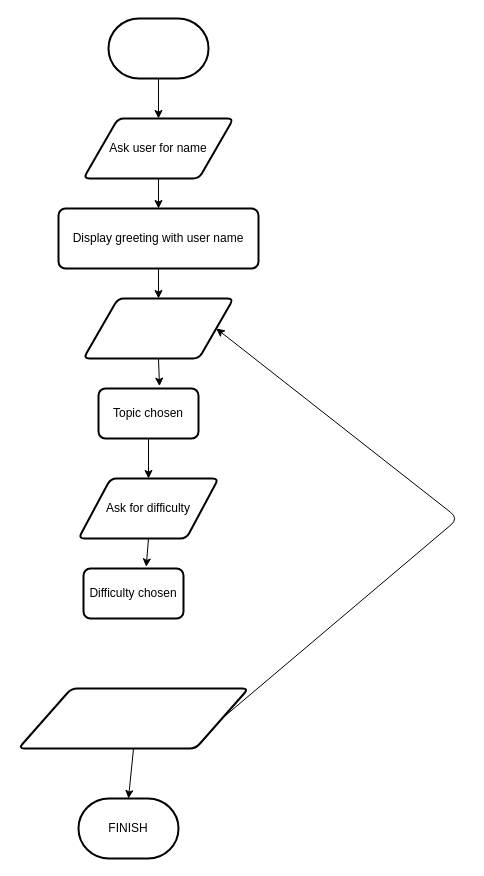
The diagram is 484 pixels wide and 876 high, and some of its shapes have lost their labels. The centre of each missing label's shape, as x and y in pixels:
"Ask user which topic to be quizzed on" goes at point (158, 328).
"START" goes at point (158, 48).
"Start again or close program" goes at point (133, 718).
